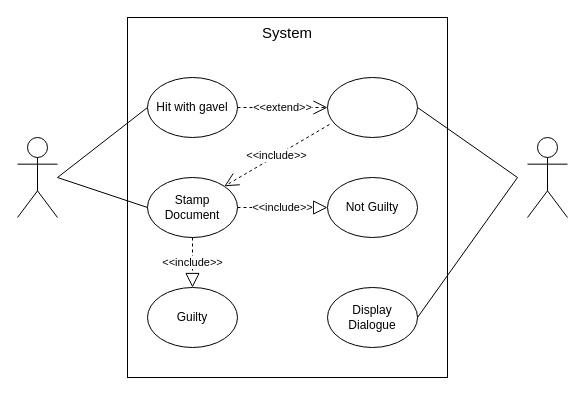
Some shapes in this 585 by 395 pixel diagram are drawn without their labels. The shapes that lost their labels are listed below. From the top down, each one's centre as x and y in pixels, then its label:
At (372,107): "Change Criminal".
At (37,177): "Player".
At (547,177): "Unity".
